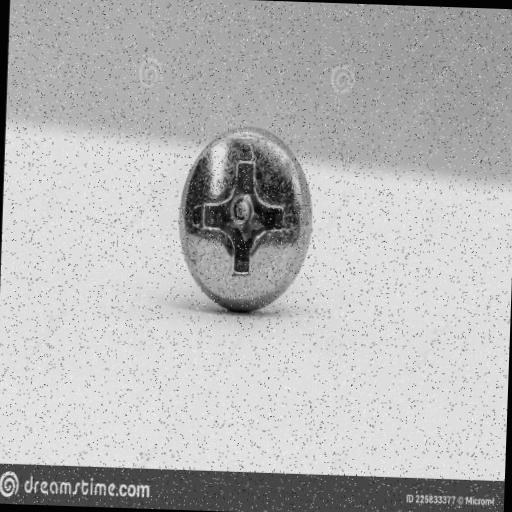Phillips: (172, 116, 318, 310)
